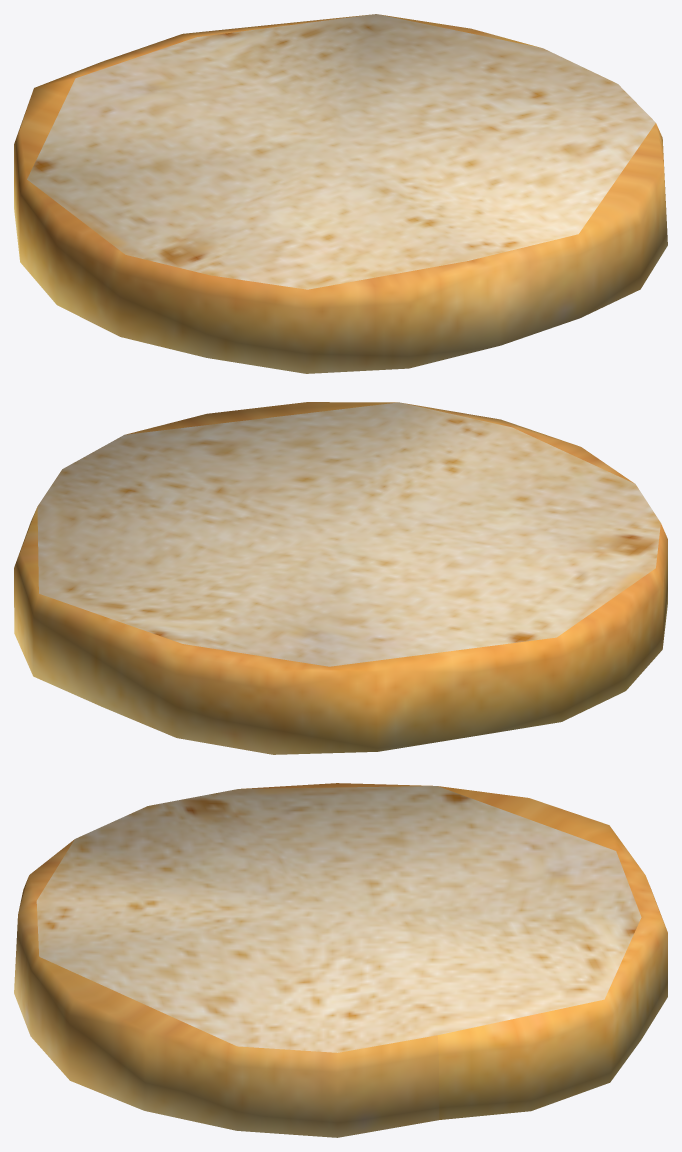
The model's file is burger_bun_04.FBX.
3 views of the same model, one above another, from view 1: azimuth 30°, elevation 25°; view 2: azimuth 150°, elevation 25°; view 3: azimuth 270°, elevation 25° (orthographic).
Parts seen in each view (by area): view 1: burger_bun_04_LOD00; view 2: burger_bun_04_LOD00; view 3: burger_bun_04_LOD00.
Boxes of the visible parts, bbox=[...] form: burger_bun_04_LOD00: bbox=[14, 14, 667, 373]; burger_bun_04_LOD00: bbox=[14, 402, 667, 754]; burger_bun_04_LOD00: bbox=[14, 783, 667, 1137].
Size of what is drawn, in the model's own units: 13.6 by 2.15 by 13.47.
